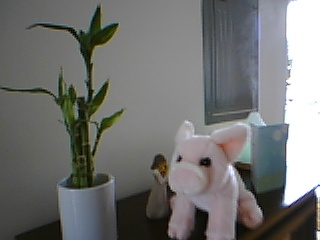piggy: (166, 119, 266, 240)
